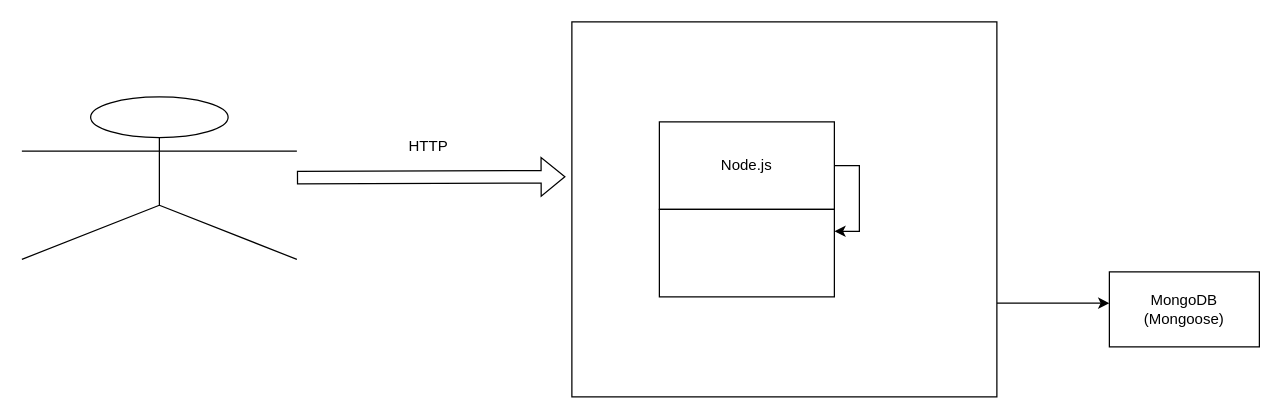
Some shapes in this 1281 by 419 pixel diagram are drawn without their labels. The shapes that lost their labels are listed below. From the top down, each one's centre as x and y in pixels, then its label:
(159,177): User
(746,252): ejs
